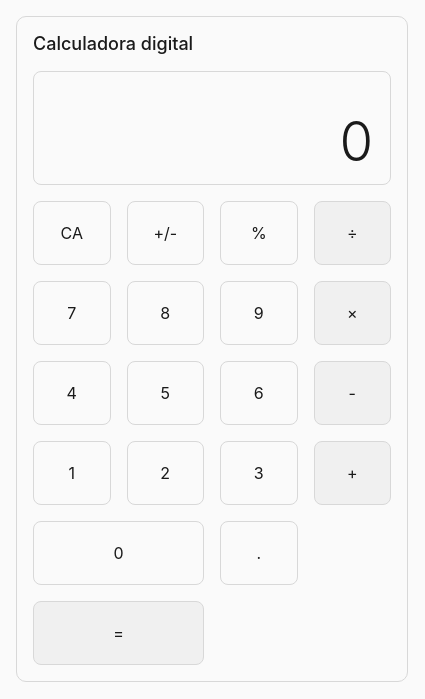
Test: Calculadora digital › muestra un decimal ajustado al límite de nueve caracteres
The image size is (425, 699).
Click the button named "Número 2": coordinates (165, 473) [126,441,204,505]
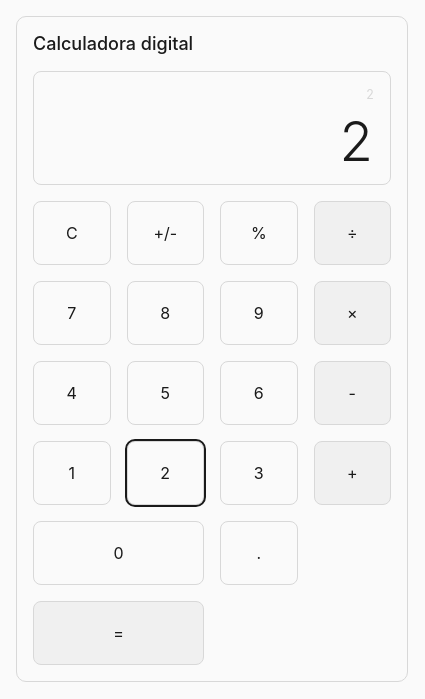
Click the button named "Número 2": coordinates (165, 473) [126,441,204,505]
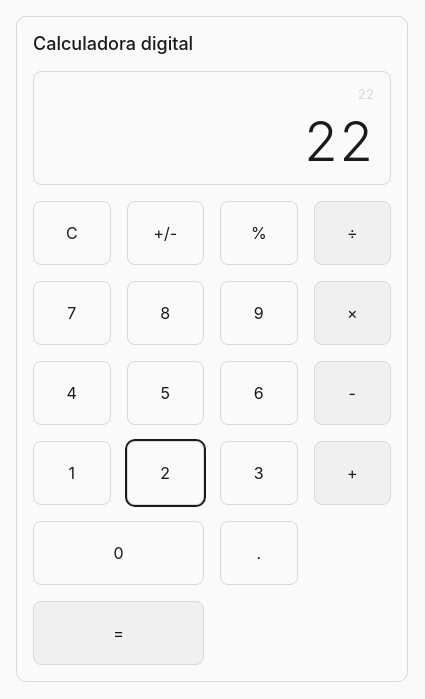
Click the button named "Dividir": coordinates (352, 233) [314,201,391,265]
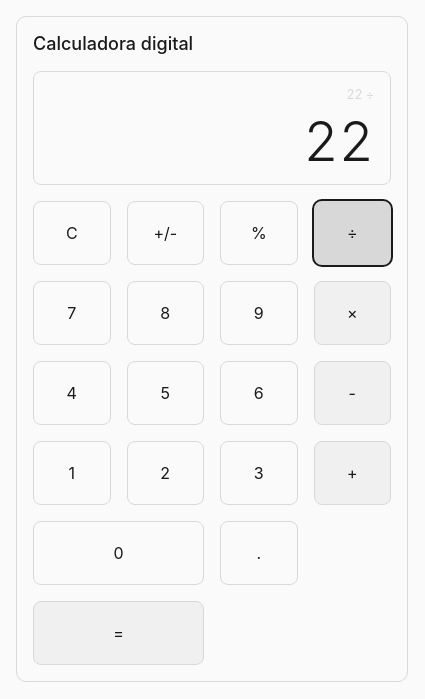
Click the button named "Número 7": coordinates (72, 313) [33,281,110,345]
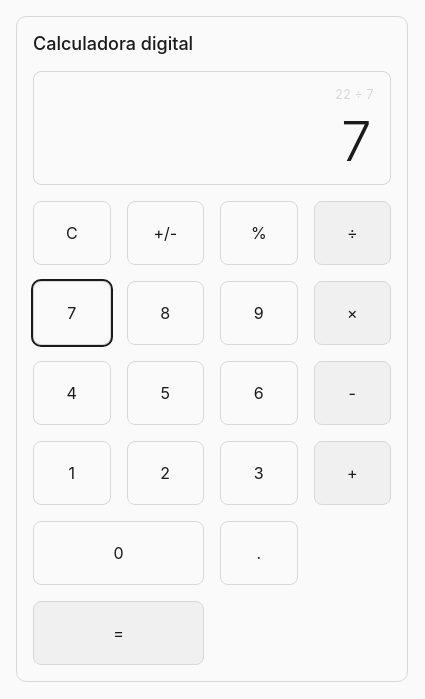
Click the button named "Resultado": coordinates (118, 633) [33,601,204,665]
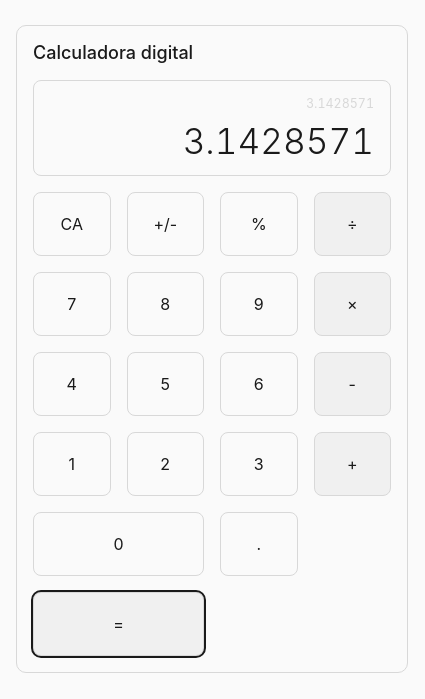
Expected: the text named "display" reads "3.1428571", [182,120,374,162]
